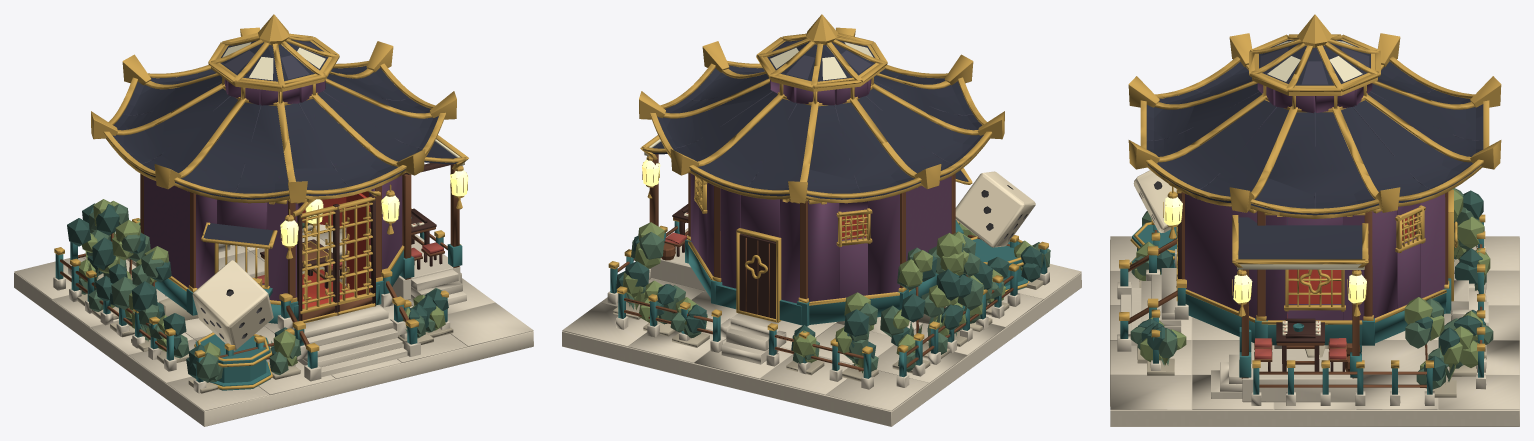
The model's file is casino-lod1-9a6844e18239.glb.
3 views of the same model, side by side, from view 1: azimuth 30°, elevation 25°; view 2: azimuth 150°, elevation 25°; view 3: azimuth 270°, elevation 25° (orthographic). The views are drawn at different scales.
Parts seen in each view (by area): view 1: SM_QK18_C17_Batch_0, SM_QK18_C17_Batch_39, SM_QK18_C17_Batch_80, SM_QK18_C17_Batch_22, SM_QK18_C17_Batch_64, SM_QK18_C17_Batch_43, SM_QK18_C17_Batch_70, SM_QK18_C17_Batch_68, SM_QK18_C17_Batch_54, SM_QK18_C17_Batch_72, SM_QK18_C17_Batch_41, SM_QK18_C17_Batch_36 (+4 smaller); view 2: SM_QK18_C17_Batch_0, SM_QK18_C17_Batch_39, SM_QK18_C17_Batch_80, SM_QK18_C17_Batch_22, SM_QK18_C17_Batch_64, SM_QK18_C17_Batch_72, SM_QK18_C17_Batch_70, SM_QK18_C17_Batch_68, SM_QK18_C17_Batch_43, SM_QK18_C17_Batch_54, SM_QK18_C17_Batch_41, SM_QK18_C17_Batch_1 (+2 smaller); view 3: SM_QK18_C17_Batch_0, SM_QK18_C17_Batch_39, SM_QK18_C17_Batch_80, SM_QK18_C17_Batch_22, SM_QK18_C17_Batch_64, SM_QK18_C17_Batch_43, SM_QK18_C17_Batch_72, SM_QK18_C17_Batch_70, SM_QK18_C17_Batch_68, SM_QK18_C17_Batch_77, SM_QK18_C17_Batch_41, SM_QK18_C17_Batch_36 (+5 smaller).
Part boxes in pixels (box(x1,y1,x2,y2)): SM_QK18_C17_Batch_0: box(14, 224, 533, 426); SM_QK18_C17_Batch_39: box(112, 39, 457, 245); SM_QK18_C17_Batch_80: box(54, 14, 468, 389); SM_QK18_C17_Batch_22: box(144, 79, 402, 301); SM_QK18_C17_Batch_64: box(55, 217, 462, 390); SM_QK18_C17_Batch_43: box(60, 164, 459, 359); SM_QK18_C17_Batch_70: box(67, 203, 448, 378); SM_QK18_C17_Batch_68: box(78, 204, 442, 382); SM_QK18_C17_Batch_54: box(192, 221, 424, 350); SM_QK18_C17_Batch_72: box(79, 199, 445, 366); SM_QK18_C17_Batch_41: box(260, 163, 453, 320); SM_QK18_C17_Batch_36: box(302, 191, 421, 308); SM_QK18_C17_Batch_0: box(562, 228, 1081, 426); SM_QK18_C17_Batch_39: box(651, 39, 983, 199); SM_QK18_C17_Batch_80: box(608, 14, 1048, 354); SM_QK18_C17_Batch_22: box(690, 79, 951, 303); SM_QK18_C17_Batch_64: box(610, 220, 1047, 378); SM_QK18_C17_Batch_72: box(622, 222, 1035, 373); SM_QK18_C17_Batch_70: box(616, 235, 1041, 358); SM_QK18_C17_Batch_68: box(626, 232, 1050, 372); SM_QK18_C17_Batch_43: box(617, 154, 1013, 371); SM_QK18_C17_Batch_54: box(684, 171, 1035, 247); SM_QK18_C17_Batch_41: box(672, 204, 775, 318); SM_QK18_C17_Batch_1: box(613, 279, 1043, 381); SM_QK18_C17_Batch_0: box(1110, 236, 1519, 426); SM_QK18_C17_Batch_39: box(1146, 39, 1483, 259); SM_QK18_C17_Batch_80: box(1119, 14, 1501, 368); SM_QK18_C17_Batch_22: box(1185, 83, 1445, 320); SM_QK18_C17_Batch_64: box(1120, 222, 1483, 394); SM_QK18_C17_Batch_43: box(1128, 192, 1482, 387); SM_QK18_C17_Batch_72: box(1134, 189, 1490, 380); SM_QK18_C17_Batch_70: box(1138, 190, 1485, 381); SM_QK18_C17_Batch_68: box(1130, 188, 1493, 389); SM_QK18_C17_Batch_77: box(1237, 40, 1364, 269); SM_QK18_C17_Batch_41: box(1178, 193, 1344, 371); SM_QK18_C17_Batch_36: box(1284, 215, 1415, 333).
Size of the model in its own units: 10 by 8.79 by 10.
19 materials, 10 textured.
